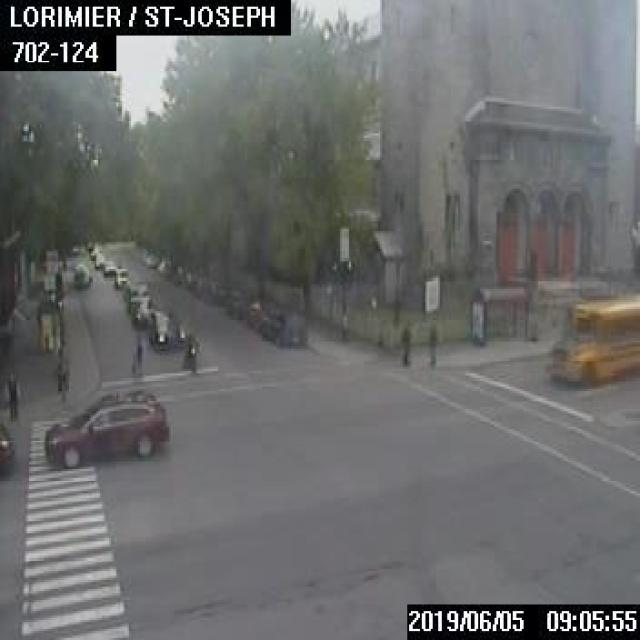bus: (546, 294, 638, 386)
pedestrian: (4, 369, 18, 420), (131, 334, 142, 376), (399, 324, 409, 364), (428, 317, 435, 364)
vehicle: (43, 388, 165, 464), (259, 308, 305, 347), (148, 308, 187, 349), (244, 300, 274, 330), (0, 422, 15, 471), (123, 282, 147, 312), (128, 294, 151, 325), (182, 334, 200, 373), (224, 290, 247, 316), (202, 282, 228, 302), (72, 262, 90, 286), (193, 277, 210, 296), (113, 266, 129, 286), (140, 248, 157, 266), (172, 265, 186, 285), (156, 256, 171, 273), (184, 270, 199, 287), (102, 259, 115, 273), (94, 252, 104, 266)
